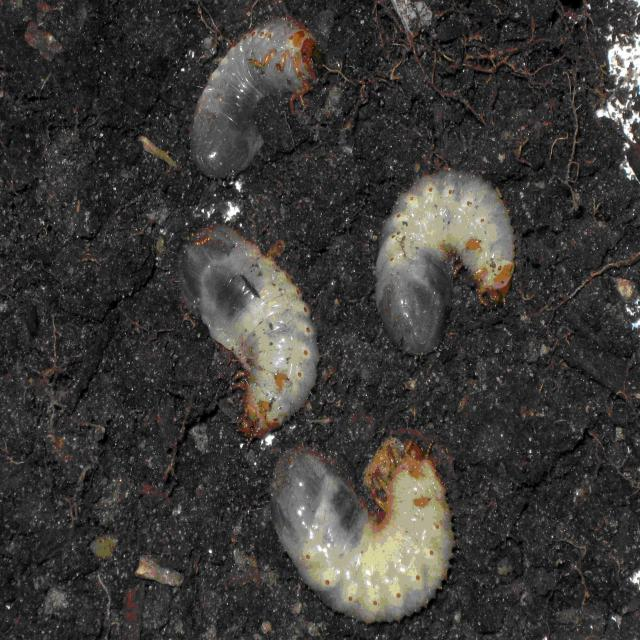Grub-Adult-: (254, 424, 486, 610), (163, 206, 329, 441), (363, 165, 529, 373), (181, 7, 332, 173)
